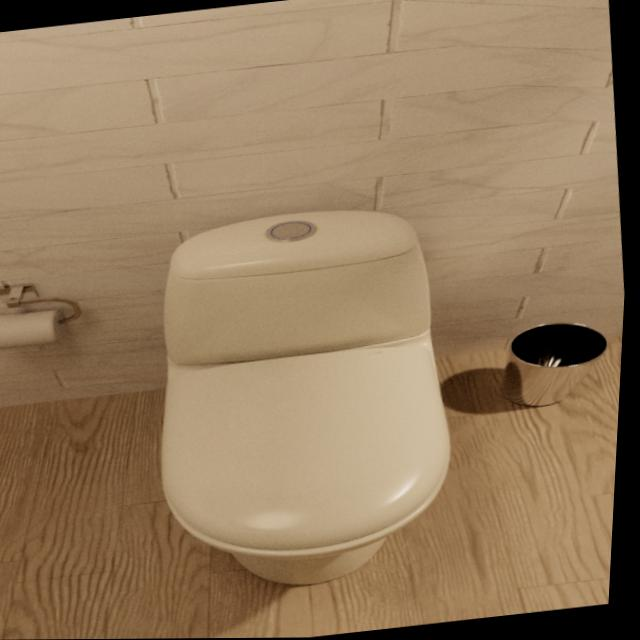toilet: (134, 195, 481, 601)
